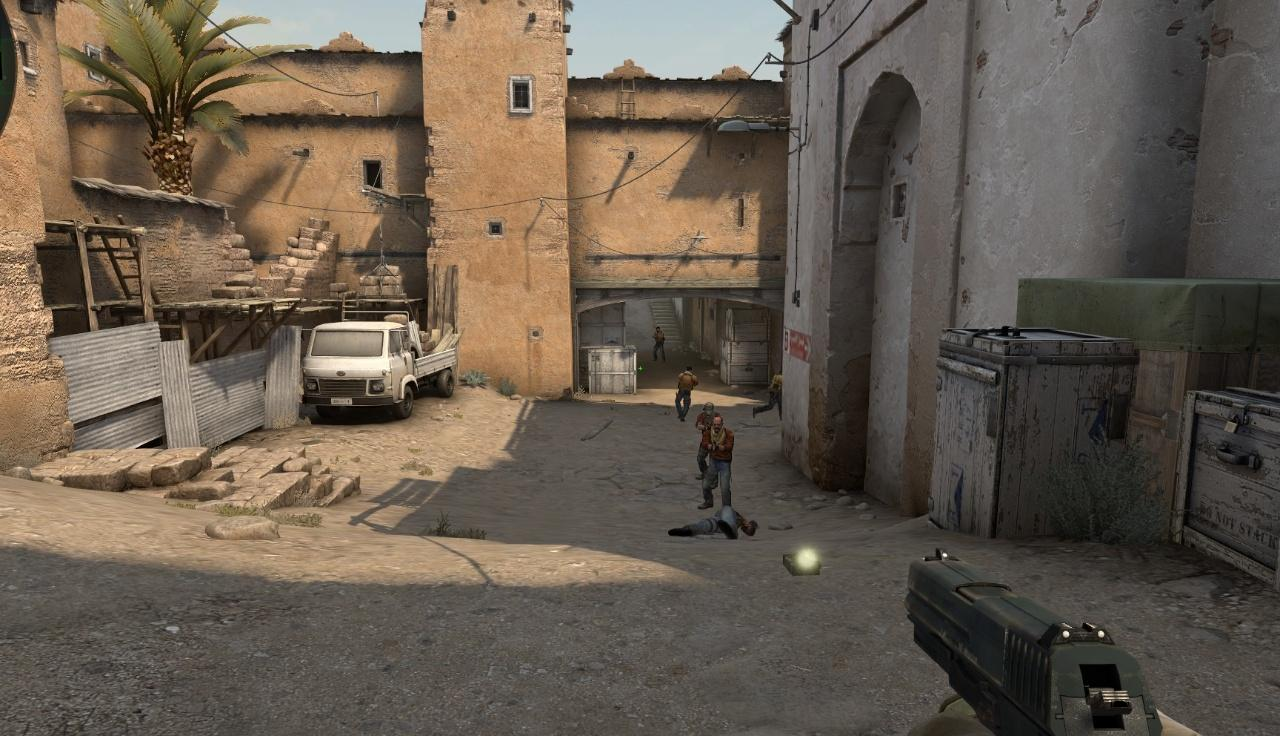pistol: (909, 551, 1164, 736)
tt: (703, 417, 731, 507), (676, 366, 695, 422), (766, 369, 781, 421), (654, 327, 664, 361)
tthead: (712, 417, 723, 433), (704, 403, 715, 416), (686, 366, 692, 373), (656, 327, 660, 332)
